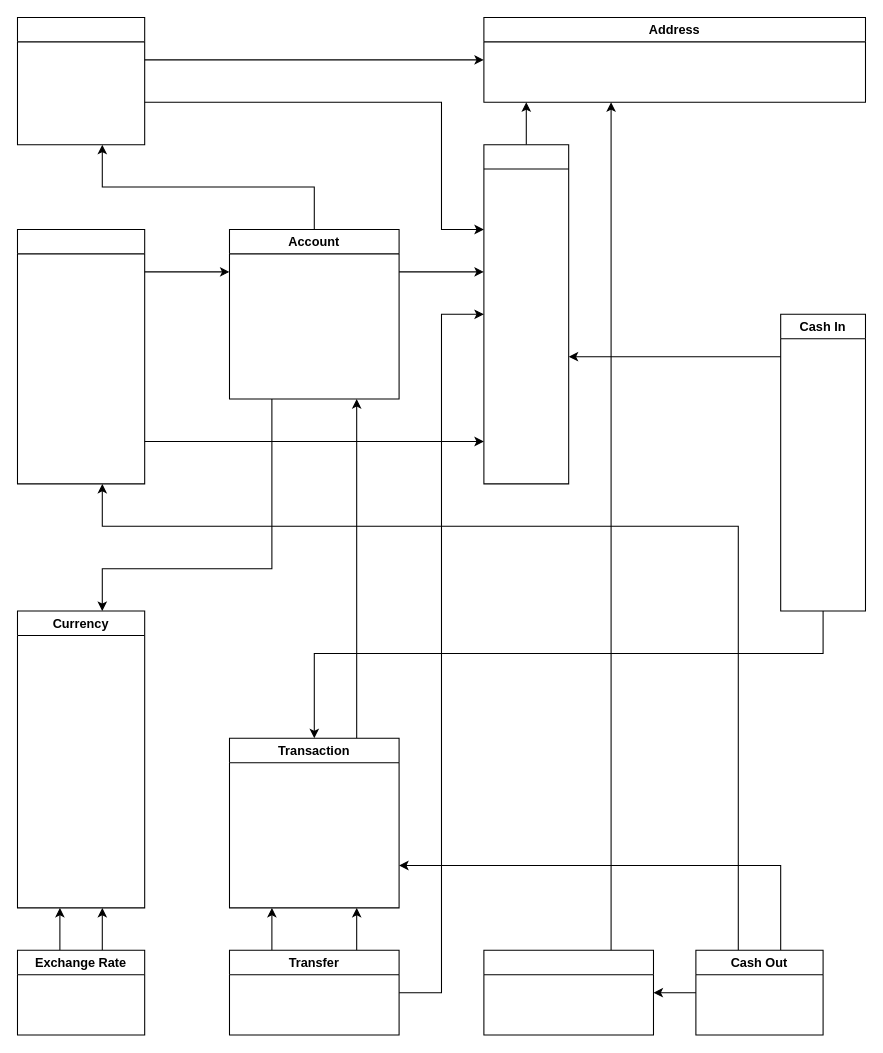
Image size: 883x1053. Some labels were removed from this diagram. Each missing label, with the centre of its shape:
"ATM" goes at [568,992].
"Brunch" goes at [526,314].
"Card" goes at [80,356].
"User" goes at [80,80].
